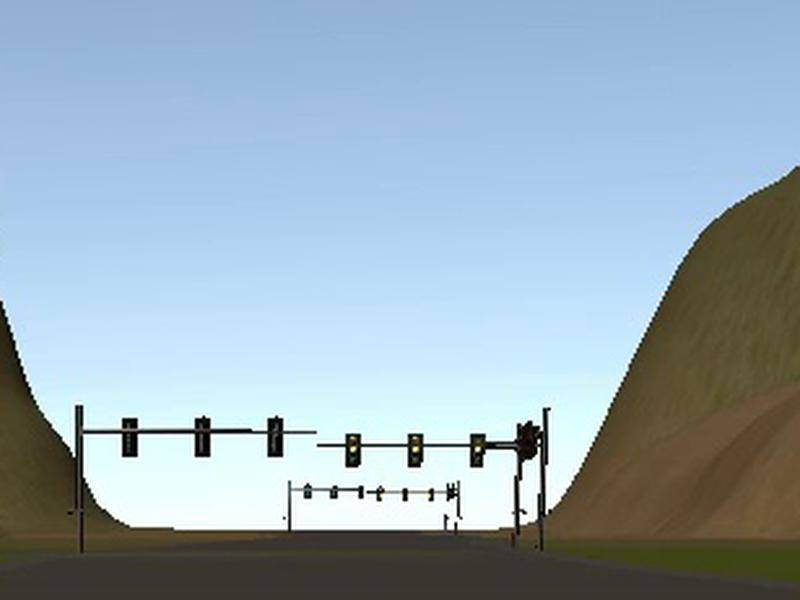Yellow: (468, 431, 486, 467), (407, 433, 424, 469), (345, 433, 362, 468)
